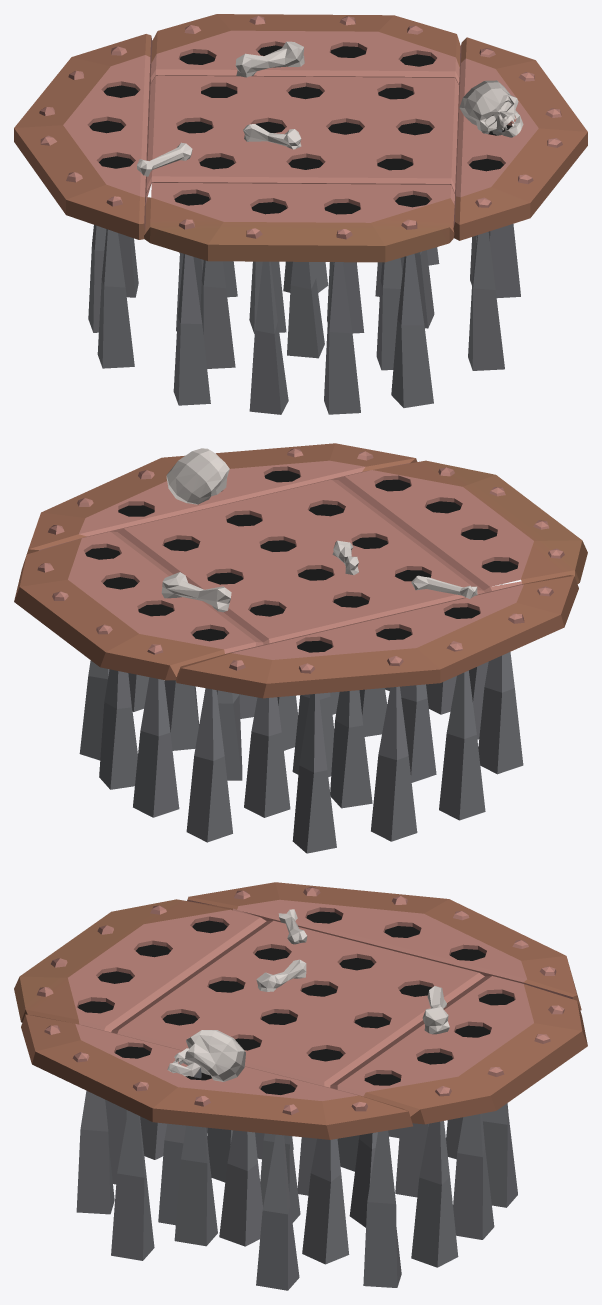
The model's file is spikeTrapBase.fbx.
3 renders of one model, top to bottom at view 1: azimuth 30°, elevation 25°; view 2: azimuth 150°, elevation 25°; view 3: azimuth 270°, elevation 25°, orthographic.
Visible parts, largest first — view 1: spikeTrapBase, spikeTrapMain; view 2: spikeTrapBase, spikeTrapMain; view 3: spikeTrapBase, spikeTrapMain.
Boxes of the visible parts, bbox=[...] form: spikeTrapBase: bbox=[14, 14, 587, 262]; spikeTrapMain: bbox=[88, 80, 523, 414]; spikeTrapBase: bbox=[14, 443, 587, 698]; spikeTrapMain: bbox=[79, 448, 523, 853]; spikeTrapBase: bbox=[14, 882, 587, 1139]; spikeTrapMain: bbox=[76, 1030, 517, 1290].
Bounding box in the file's own units: 4.37 × 2.02 × 4.33.
Materials: 1 (1 with a texture image).
